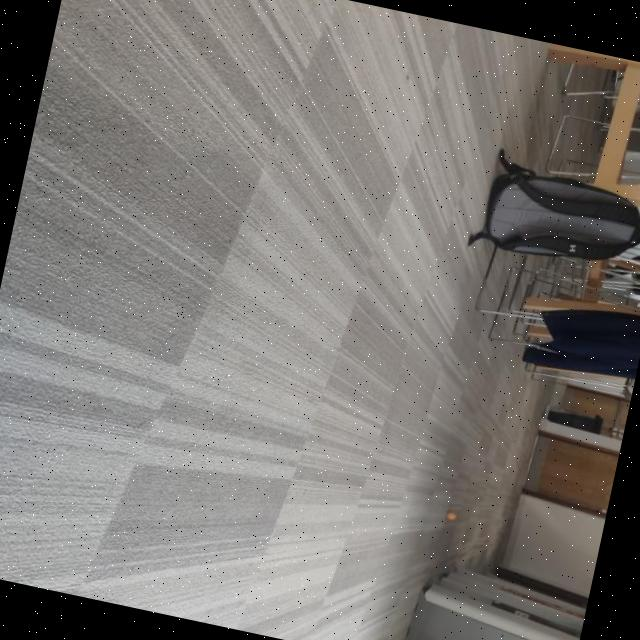ping-pong-ball: (443, 509, 458, 521)
